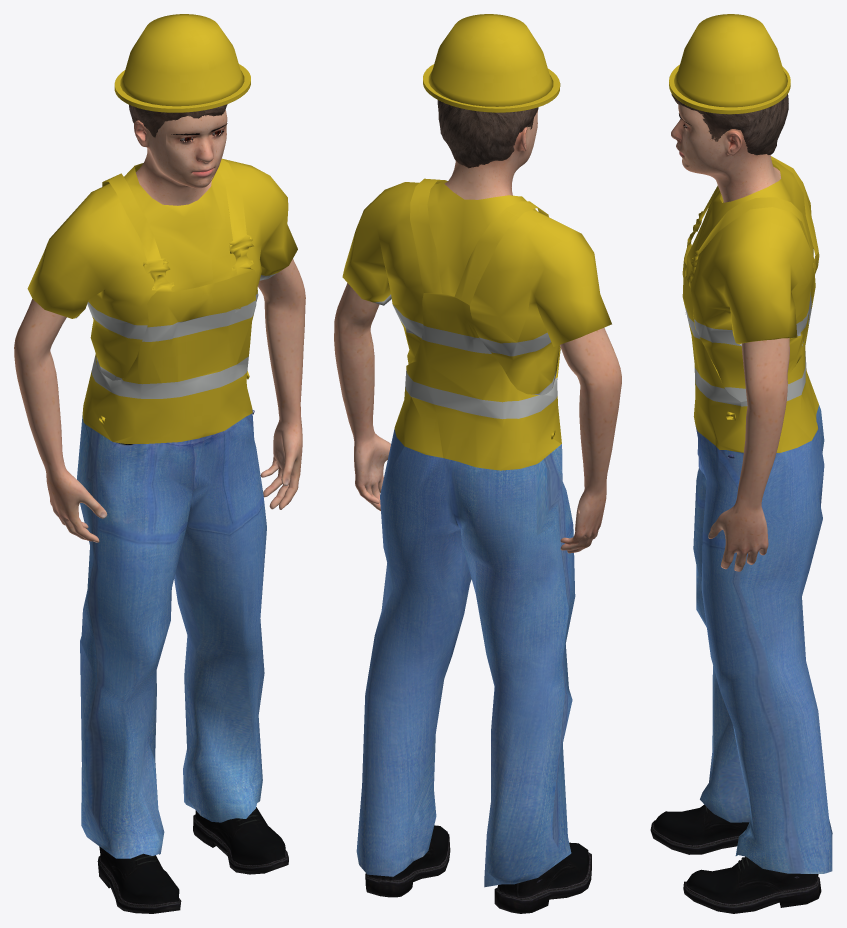
Rendered from drew-3d-person-construction-worker-with-hard-hat-and-hi-vis.glb.
3 renders of one model, left to right at view 1: azimuth 30°, elevation 25°; view 2: azimuth 150°, elevation 25°; view 3: azimuth 270°, elevation 25°, orthographic. The views are drawn at different scales.
Parts seen in each view (by area): view 1: male_worksuit01, Drew | anatomical body, Worker | original hardhat shell, shoes03, Worker | integral hardhat brim, short02; view 2: male_worksuit01, Drew | anatomical body, Worker | original hardhat shell, shoes03, short02, Worker | integral hardhat brim; view 3: male_worksuit01, Drew | anatomical body, shoes03, Worker | original hardhat shell, short02, Worker | integral hardhat brim.
Part boxes in pixels (left/top/right/bottom): male_worksuit01: left=27, top=158, right=297, bottom=858; Drew | anatomical body: left=14, top=110, right=305, bottom=542; Worker | original hardhat shell: left=120, top=14, right=244, bottom=106; shoes03: left=97, top=807, right=288, bottom=913; Worker | integral hardhat brim: left=114, top=64, right=250, bottom=112; short02: left=129, top=104, right=227, bottom=137; male_worksuit01: left=342, top=178, right=611, bottom=887; Drew | anatomical body: left=334, top=109, right=621, bottom=553; Worker | original hardhat shell: left=428, top=14, right=553, bottom=106; shoes03: left=365, top=825, right=591, bottom=913; short02: left=437, top=100, right=538, bottom=168; Worker | integral hardhat brim: left=423, top=64, right=560, bottom=112; male_worksuit01: left=682, top=156, right=832, bottom=873; Drew | anatomical body: left=671, top=104, right=789, bottom=571; shoes03: left=650, top=804, right=821, bottom=913; Worker | original hardhat shell: left=674, top=14, right=787, bottom=107; short02: left=671, top=94, right=788, bottom=155; Worker | integral hardhat brim: left=669, top=64, right=790, bottom=114.
Size of the model in its own units: 0.647 by 1.89 by 0.3671.
11 materials, 11 textured.
